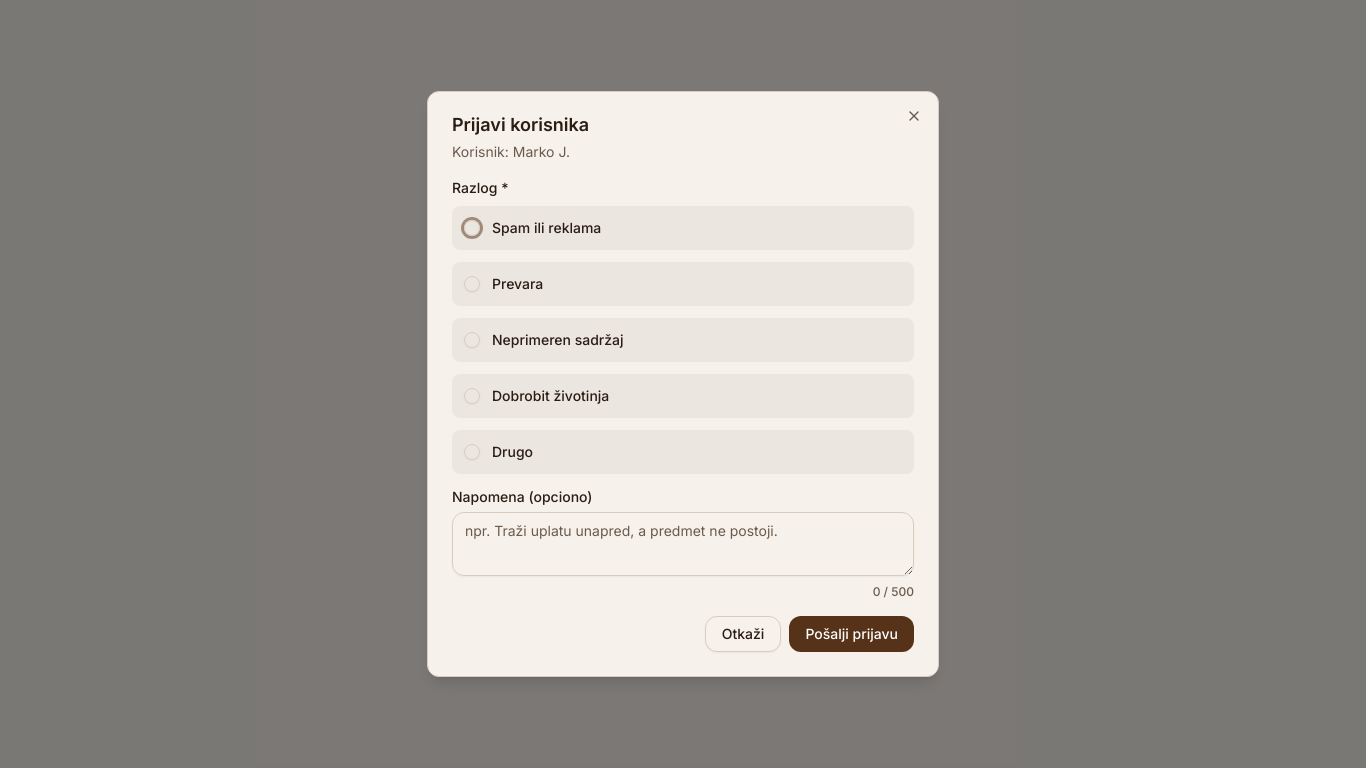
it: ReportDialog › requires a reason, and a note for Drugo
Click the button "Pošalji prijavu" at (852, 634), box x1=789 y1=616 x2=914 y2=652
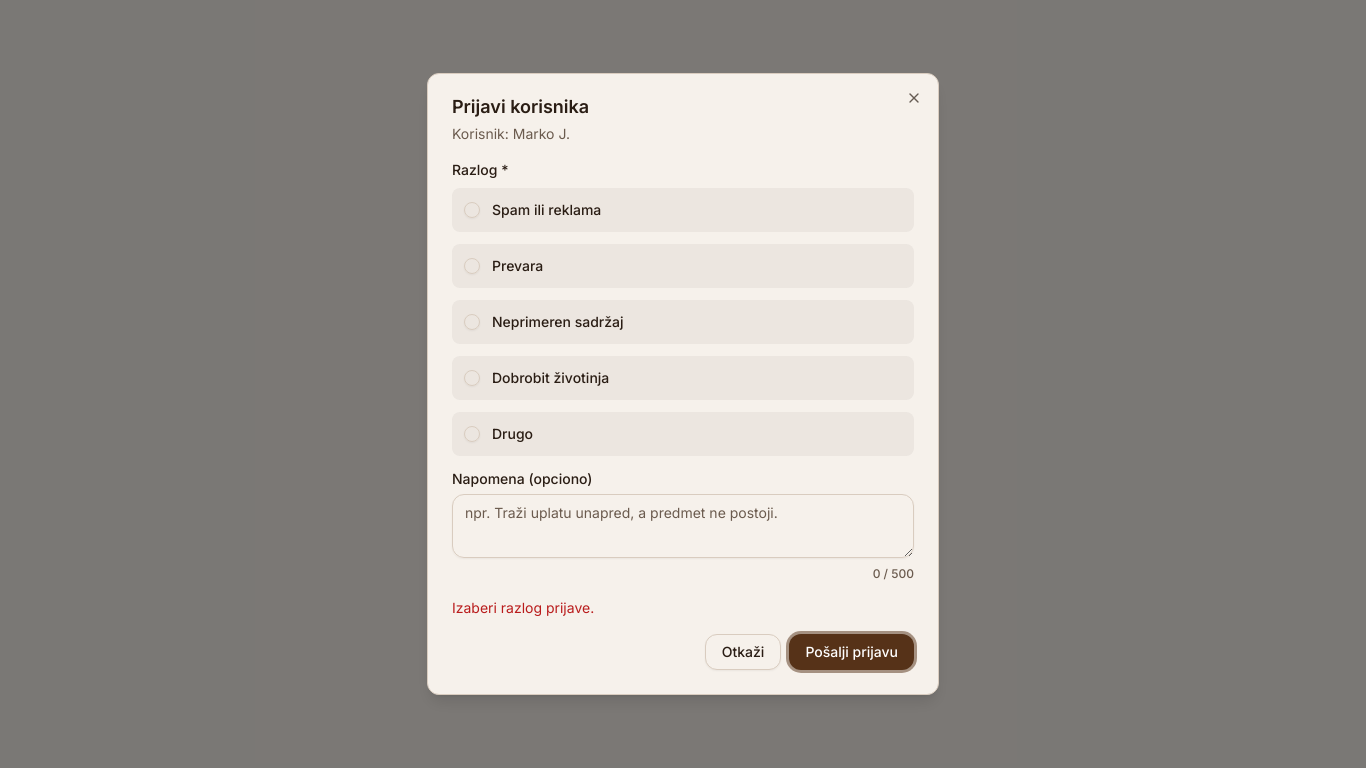
Now the message reads "Izaberi razlog prijave.", box x1=452 y1=599 x2=594 y2=616
Click the radio button named "Drugo" next to "Drugo" at (472, 434), box x1=464 y1=426 x2=480 y2=442
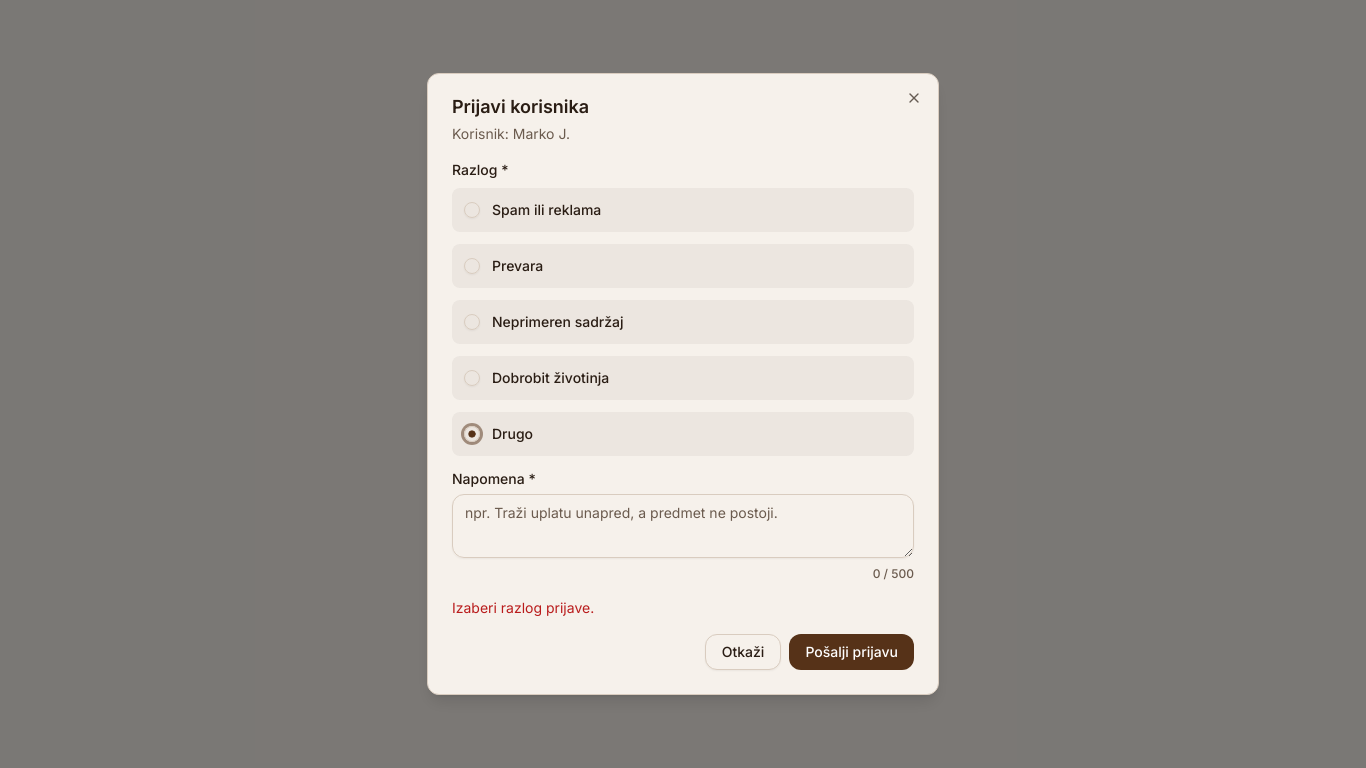
Expected: the text "Napomena *" is shown, x1=452 y1=470 x2=536 y2=487
Click the button "Pošalji prijavu" at (852, 652), box x1=789 y1=634 x2=914 y2=670
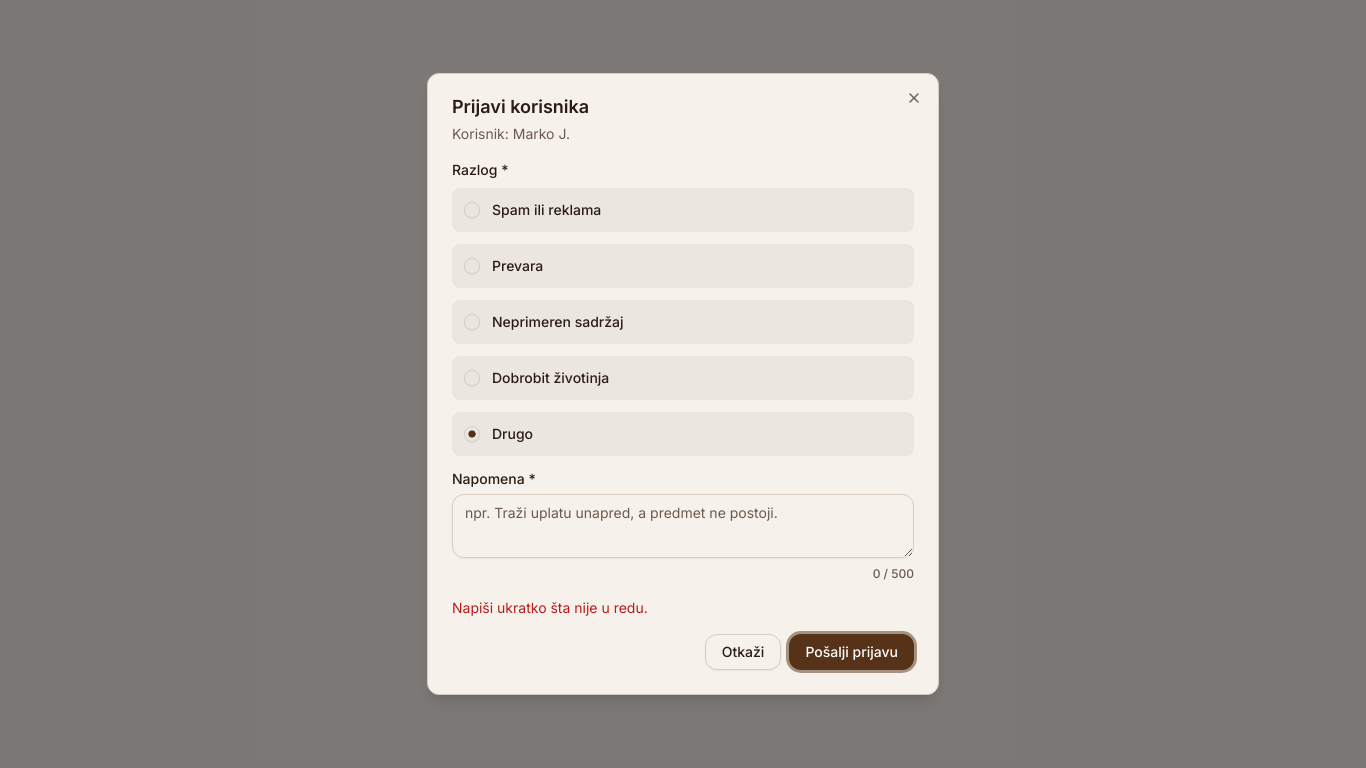
Now the message reads "Napiši ukratko šta nije u redu.", box x1=452 y1=599 x2=648 y2=616
